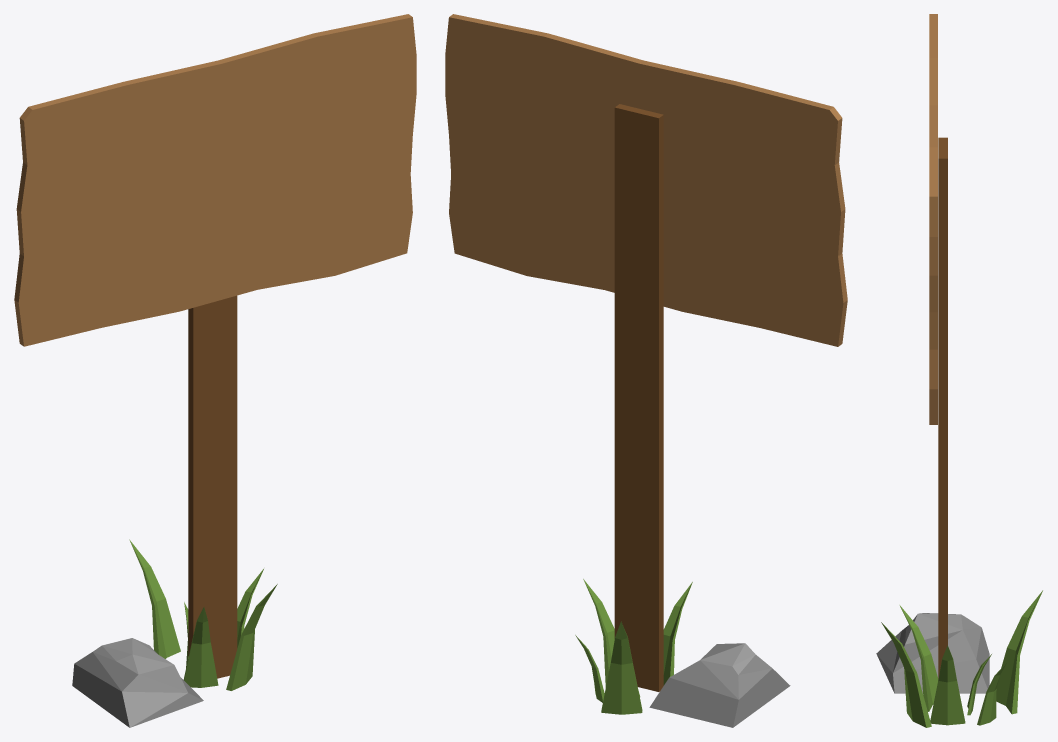
Rendered from sign.glb.
3 views of the same model, side by side, from view 1: azimuth 30°, elevation 25°; view 2: azimuth 150°, elevation 25°; view 3: azimuth 270°, elevation 25° (orthographic).
Parts seen in each view (by area): view 1: Sign11; view 2: Sign11; view 3: Sign11.
Boxes of the visible parts, x1=… form: Sign11: x1=14, y1=14, x2=416, y2=727; Sign11: x1=445, y1=14, x2=847, y2=727; Sign11: x1=876, y1=14, x2=1042, y2=727.
Bounding box in the file's own units: 1.44 × 2.15 × 0.5324.
